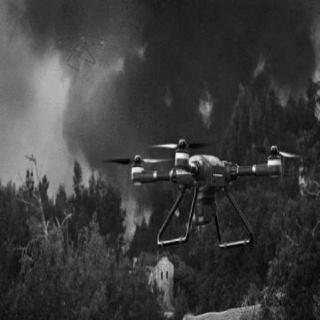Fire: (7, 44, 166, 256)
